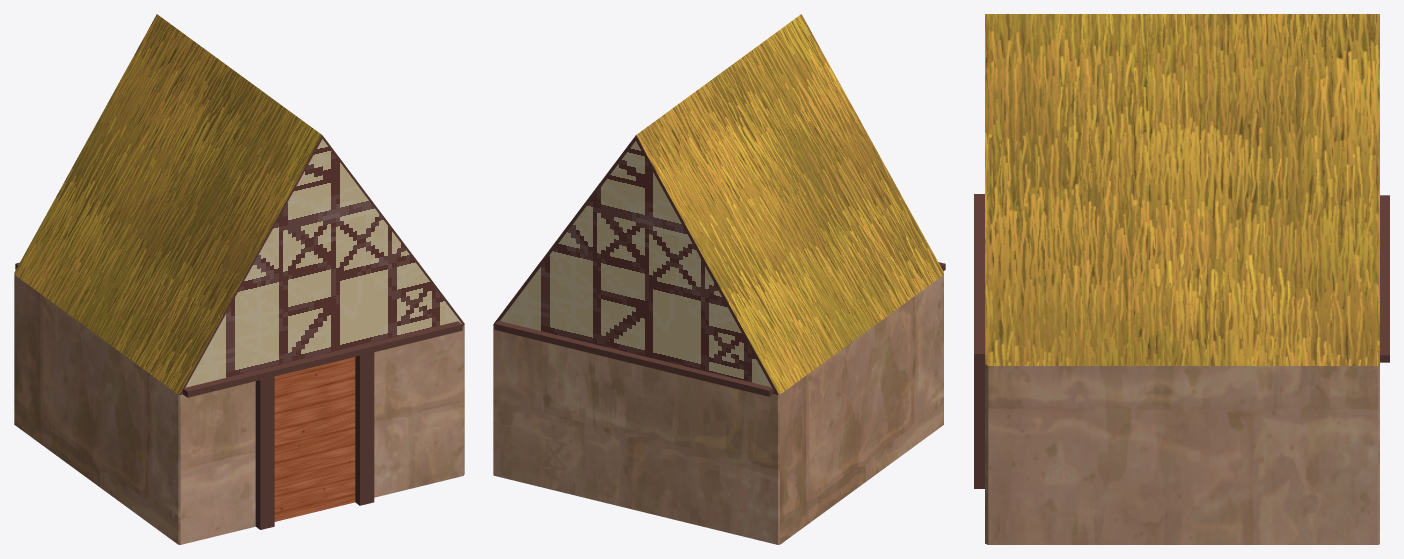
File: nobel_house5.glb
3 views of the same model, side by side, from view 1: azimuth 30°, elevation 25°; view 2: azimuth 150°, elevation 25°; view 3: azimuth 270°, elevation 25° (orthographic). The views are drawn at different scales.
Parts seen in each view (by area): view 1: Cube; view 2: Cube; view 3: Cube.
Boxes of the visible parts, box(x1,y1,x2,y2) form: Cube: box(14, 14, 464, 544); Cube: box(493, 14, 945, 544); Cube: box(974, 14, 1389, 544).
Size of the model in its own units: 2 by 2.5 by 2.1.
Materials: 5 (4 with a texture image).
